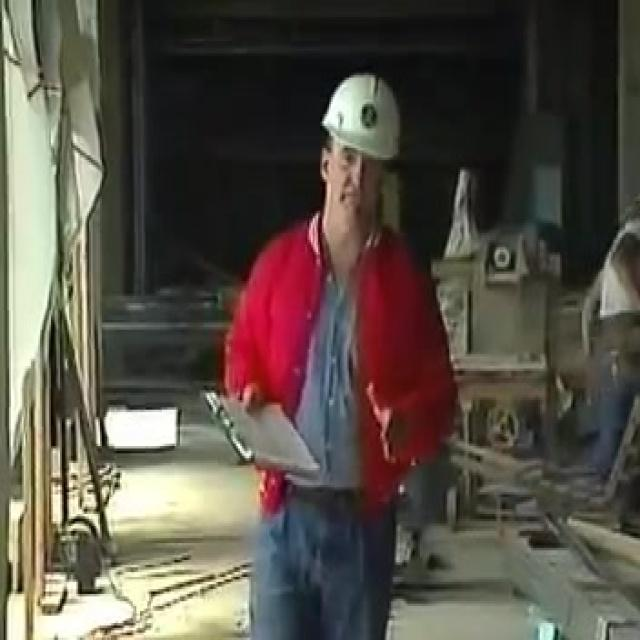helmet: (320, 92, 404, 224)
